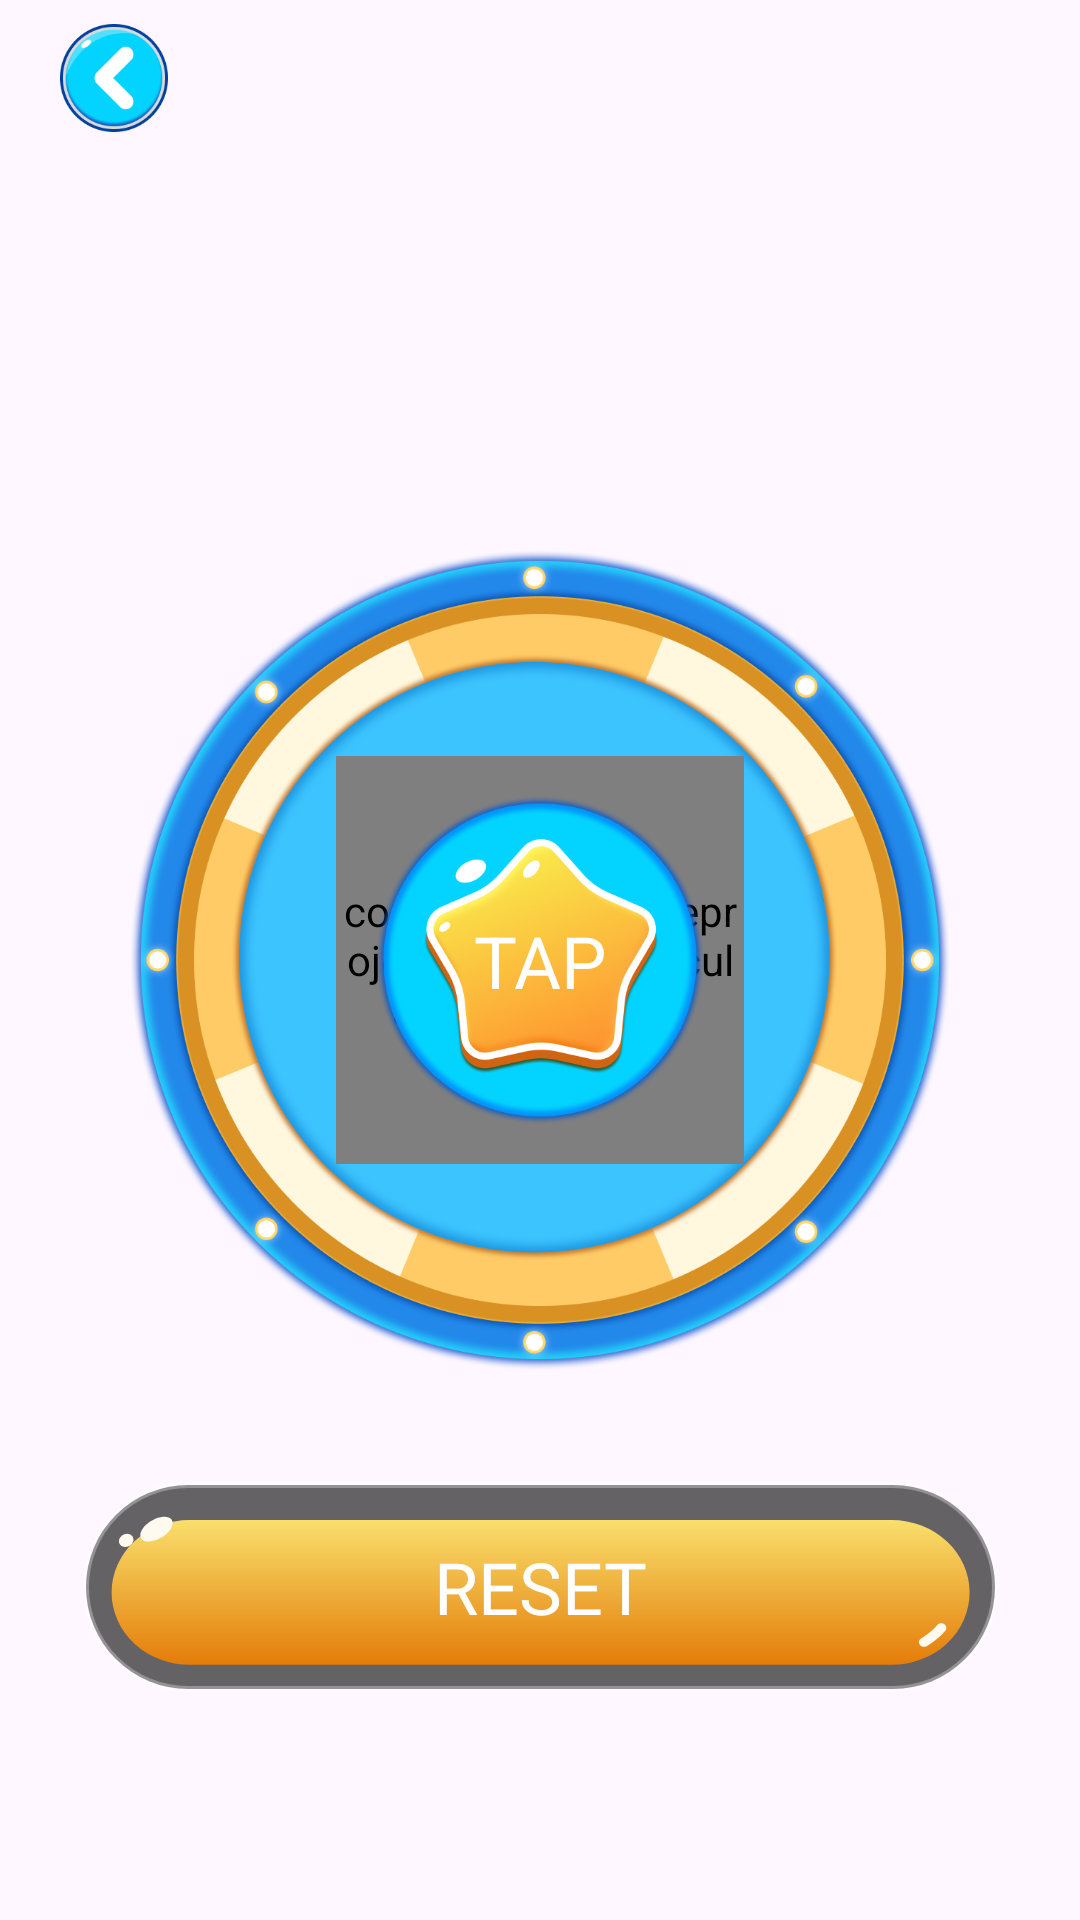

Where icons sit on this 1080x1920 app screen, as detection(x1, y1, x2, y2):
back: detection(60, 24, 168, 132)
